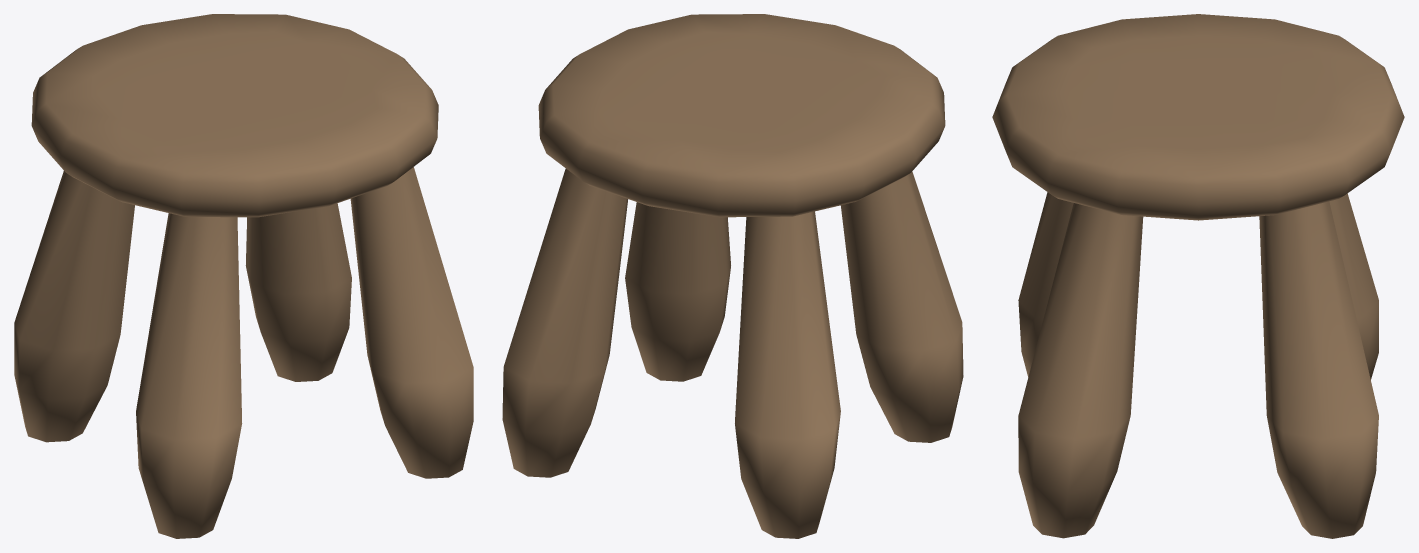
Rendered from ModelosEscenarioSillaV1.fbx.
The picture shows the model from 3 angles, left to right: view 1: azimuth 30°, elevation 25°; view 2: azimuth 150°, elevation 25°; view 3: azimuth 270°, elevation 25°; orthographic projection. The views are drawn at different scales.
Parts seen in each view (by area): view 1: PosaCulo, Pata3, Pata2, Pata1, Pata; view 2: PosaCulo, Pata1, Pata, Pata3, Pata2; view 3: PosaCulo, Pata, Pata2, Pata3, Pata1.
Boxes of the visible parts, x1=… form: PosaCulo: x1=31, y1=14, x2=438, y2=217; Pata3: x1=136, y1=213, x2=242, y2=538; Pata2: x1=350, y1=167, x2=473, y2=478; Pata1: x1=14, y1=171, x2=134, y2=442; Pata: x1=245, y1=203, x2=351, y2=381; PosaCulo: x1=538, y1=14, x2=945, y2=217; Pata1: x1=735, y1=211, x2=840, y2=538; Pata: x1=502, y1=168, x2=628, y2=477; Pata3: x1=840, y1=171, x2=963, y2=442; Pata2: x1=625, y1=202, x2=730, y2=381; PosaCulo: x1=992, y1=14, x2=1404, y2=220; Pata: x1=1259, y1=201, x2=1378, y2=538; Pata2: x1=1018, y1=203, x2=1143, y2=538; Pata3: x1=1018, y1=192, x2=1073, y2=376; Pata1: x1=1329, y1=193, x2=1378, y2=379.
Size of the model in its own units: 306 by 300 by 306.
